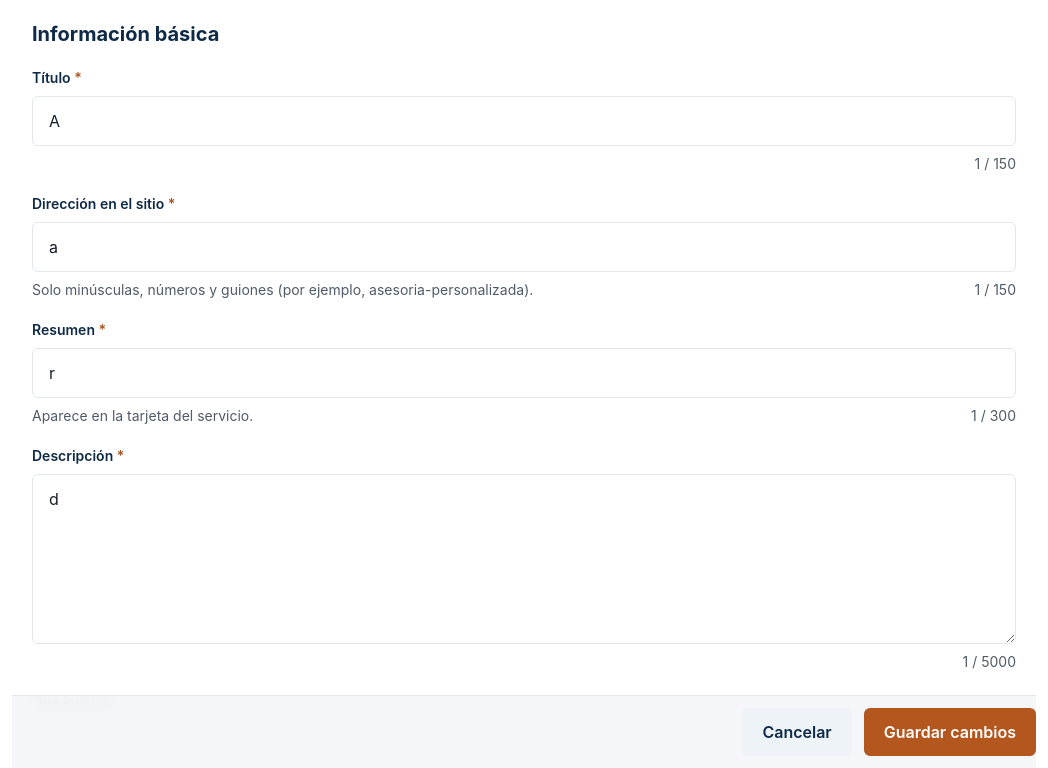
Test: si la API rechaza, muestra su mensaje y se queda en el formulario
The width and height of the screenshot is (1048, 768).
What coordinates should you click on to do the following:
click the button "Guardar cambios"
I would click on:
 (950, 732)
Its box is [864,708,1036,756].
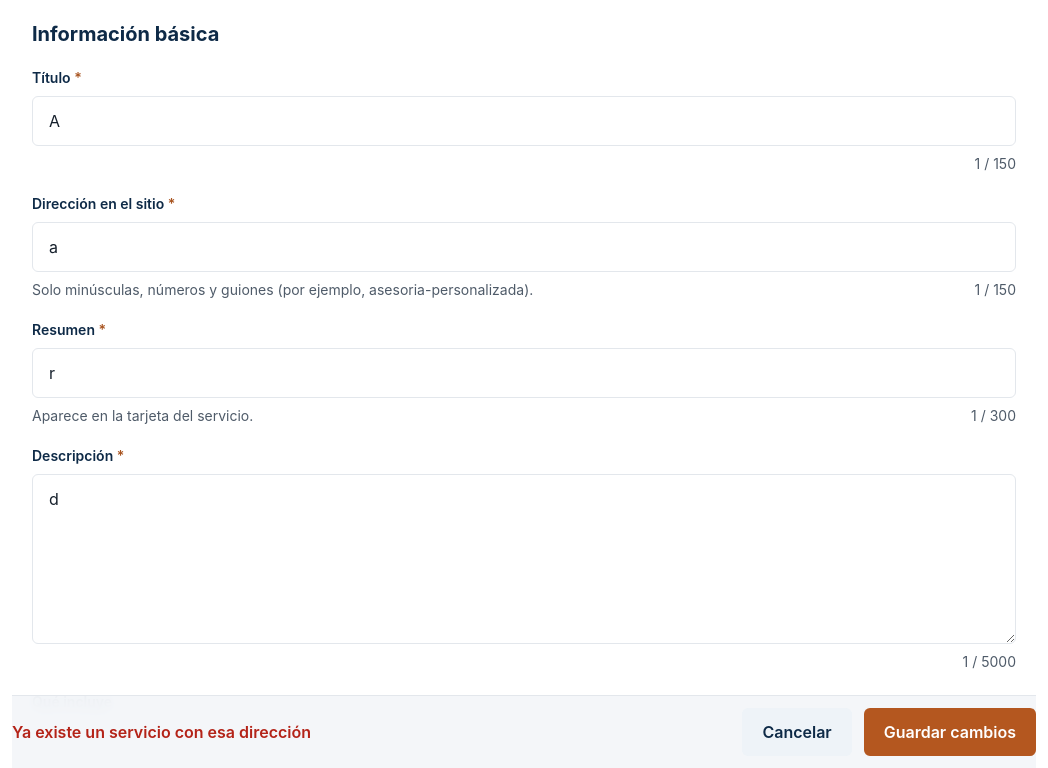
Result: the message reads "Ya existe un servicio con esa dirección" at [12,722,311,742]
